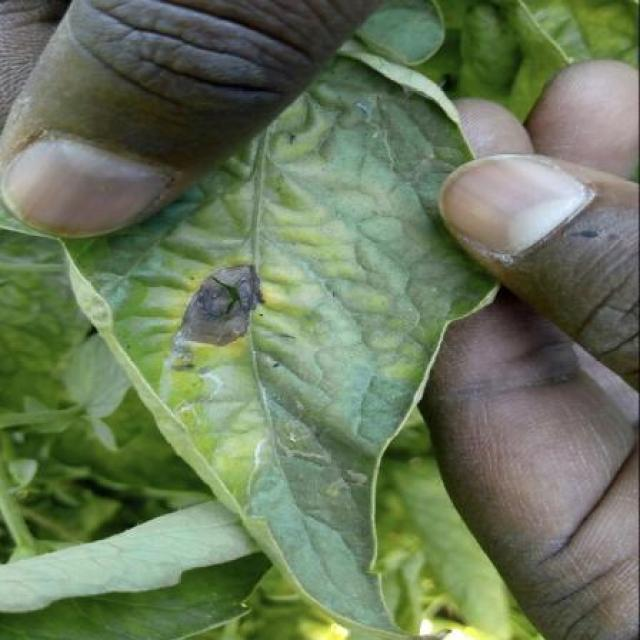Early Blight: (54, 43, 507, 640)
